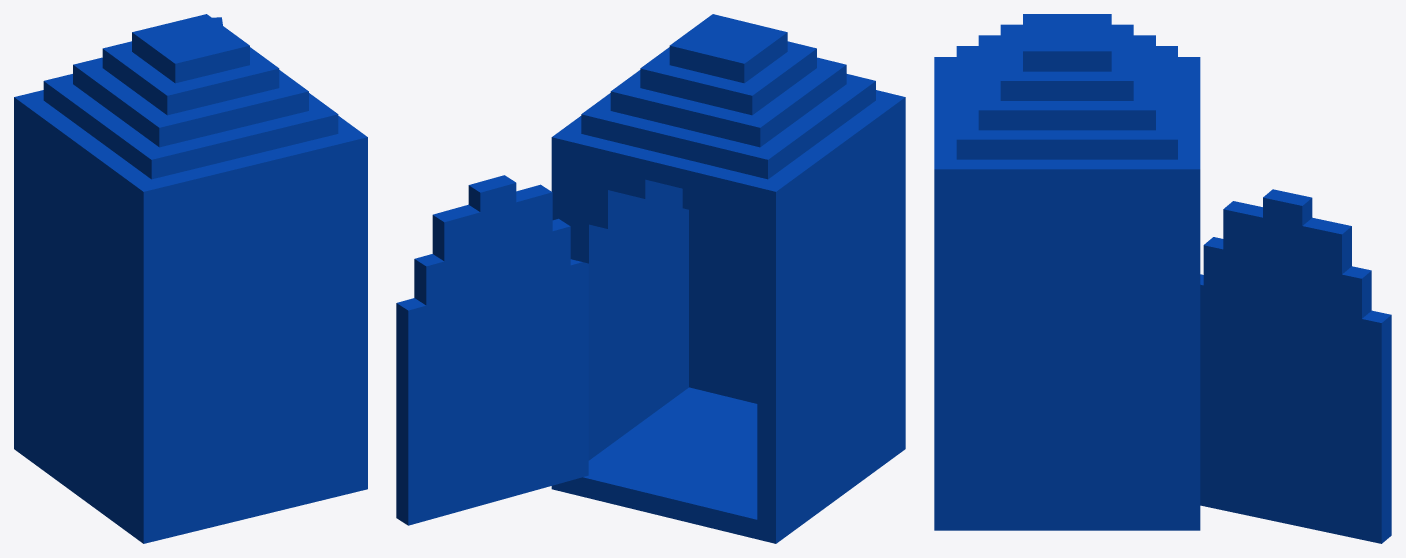
File: Portaloo.dae
3 views of the same model, side by side, from view 1: azimuth 30°, elevation 25°; view 2: azimuth 150°, elevation 25°; view 3: azimuth 270°, elevation 25° (orthographic). The views are drawn at different scales.
Parts seen in each view (by area): view 1: Toilet-local; view 2: Toilet-local, Door-local; view 3: Toilet-local, Door-local.
Boxes of the visible parts, x1,y1,x2,y2 form: Toilet-local: [14, 14, 367, 543]; Toilet-local: [551, 14, 905, 543]; Door-local: [396, 175, 588, 525]; Toilet-local: [934, 14, 1200, 530]; Door-local: [1200, 189, 1391, 543].
Bounding box in the file's own units: 15.58 × 22 × 20.64.
Materials: 2 (2 with a texture image).
